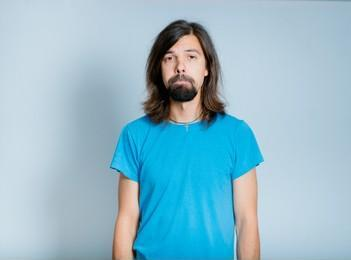face: (161, 38, 206, 105)
